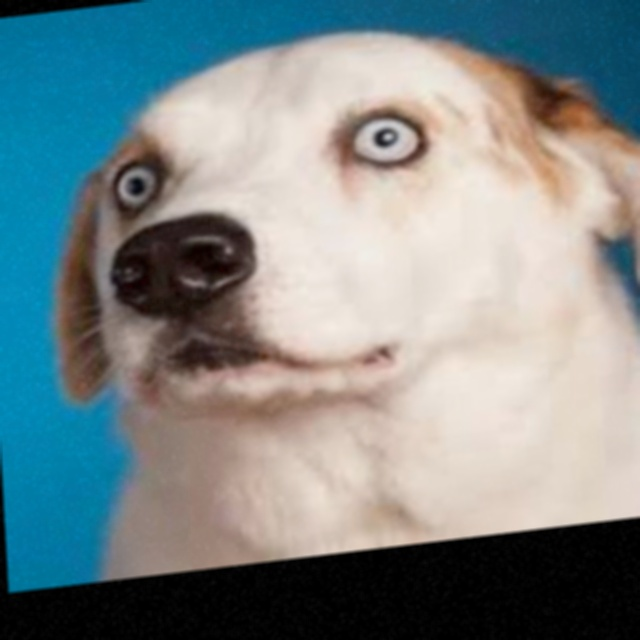dog: (19, 0, 640, 482)
